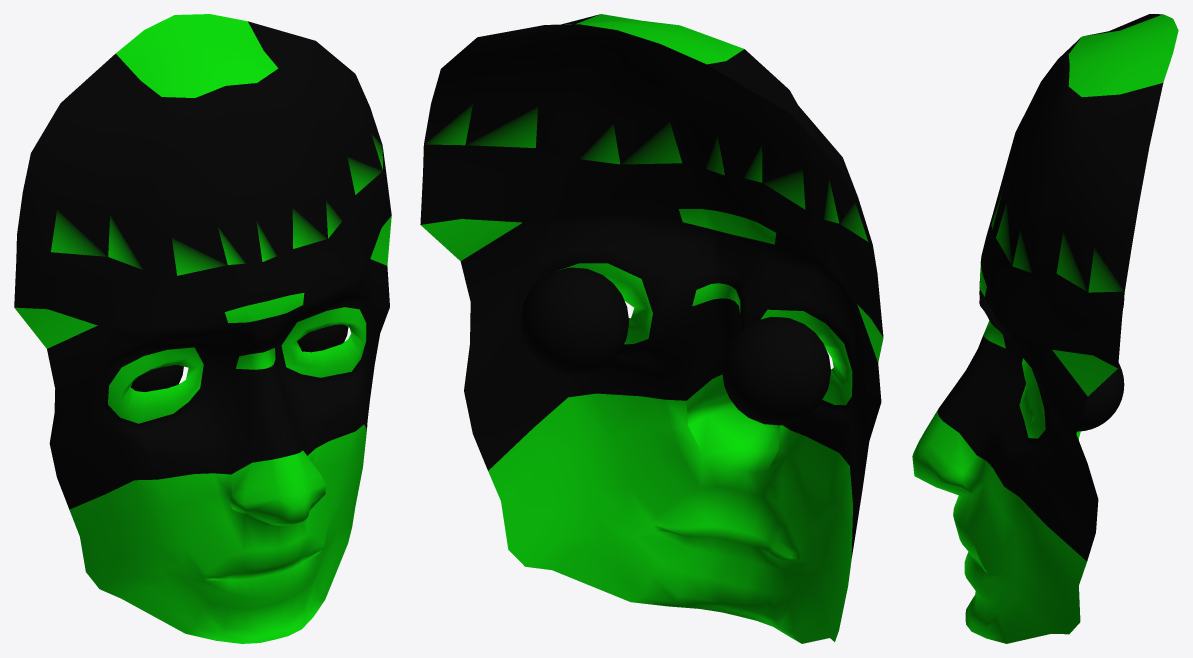
File: Face Front.fbx
The picture shows the model from 3 angles, left to right: view 1: azimuth 30°, elevation 25°; view 2: azimuth 150°, elevation 25°; view 3: azimuth 270°, elevation 25°; orthographic projection. The views are drawn at different scales.
Visible parts, largest first — view 1: Front; view 2: Front; view 3: Front.
Part boxes in pixels (box(x1,y1,x2,y2)): Front: box(14, 14, 391, 643); Front: box(420, 14, 883, 643); Front: box(912, 14, 1178, 643).
Bounding box in the file's own units: 0.298 × 0.4159 × 0.171.
